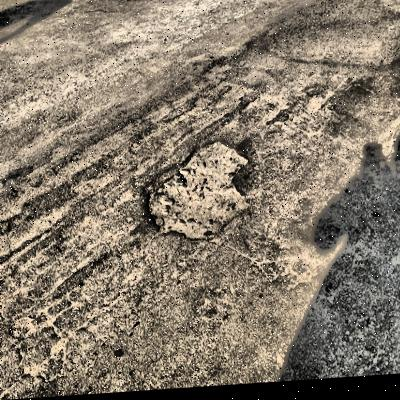pothole: (143, 141, 251, 248)
